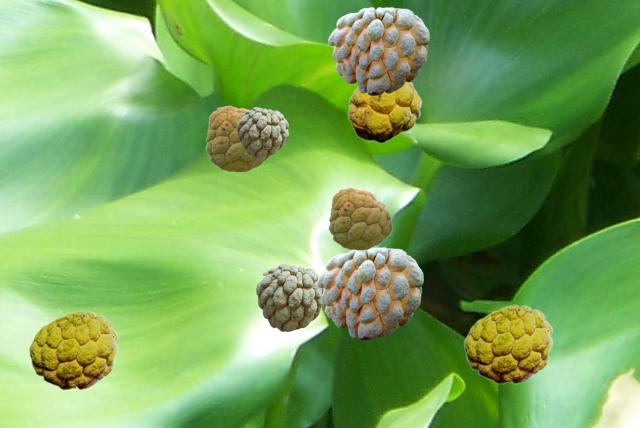atis: (317, 247, 422, 339), (328, 7, 428, 94), (463, 304, 552, 383), (28, 310, 117, 389), (256, 264, 324, 330), (347, 82, 421, 142), (205, 105, 271, 171), (328, 187, 391, 249), (236, 107, 287, 156)
